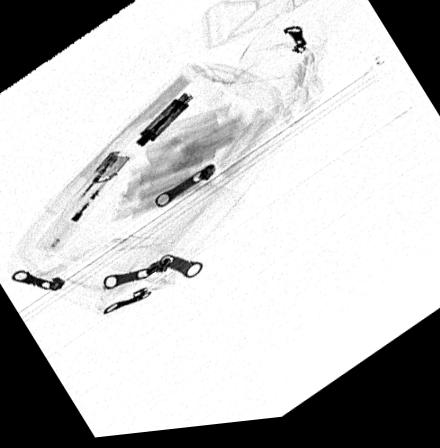Lighter: (32, 152, 137, 256)
